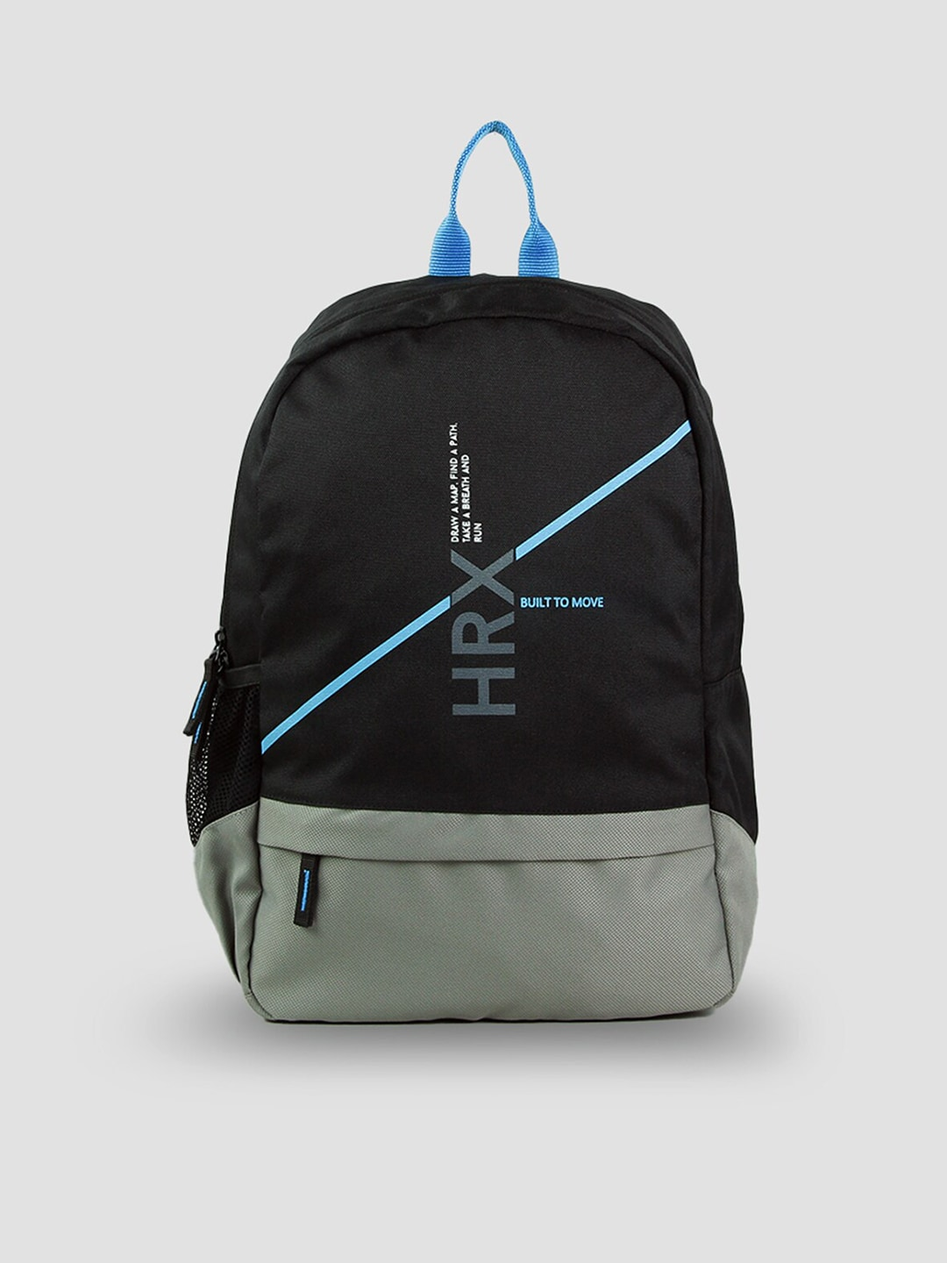backpack: (182, 119, 760, 1024)
